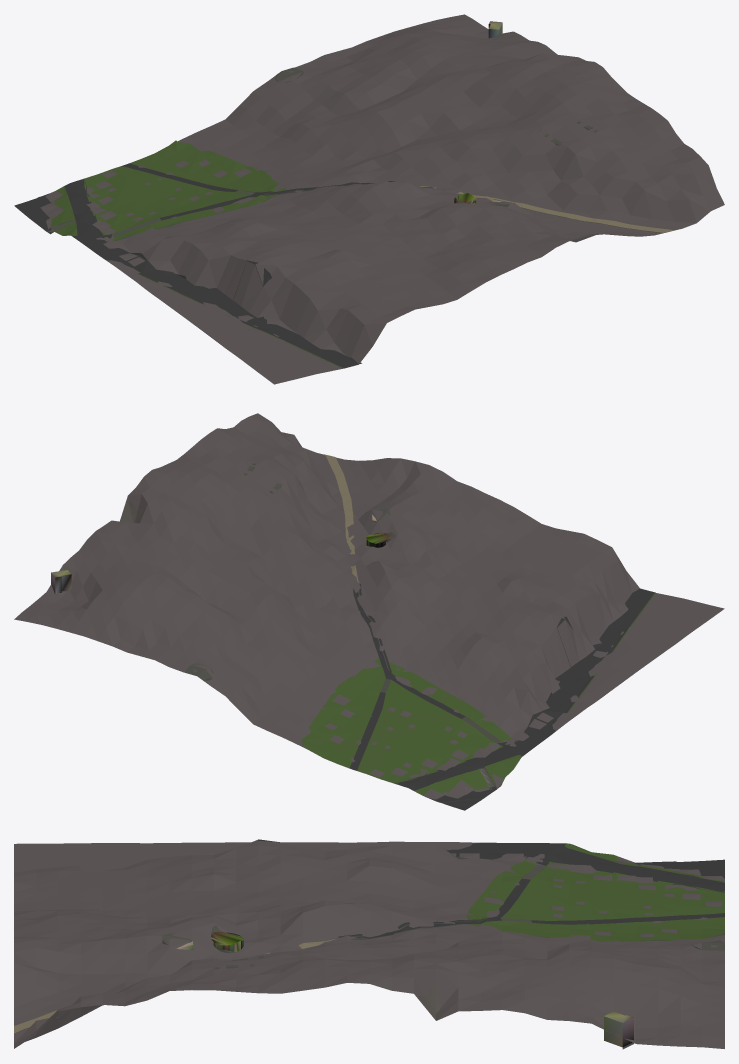
3 views of the same model, one above another, from view 1: azimuth 30°, elevation 25°; view 2: azimuth 150°, elevation 25°; view 3: azimuth 270°, elevation 25° (orthographic). The views are drawn at different scales.
Visible parts, largest first — view 1: c_m07_m16; view 2: c_m07_m16; view 3: c_m07_m16, append:c_m07_m16.
Boxes of the visible parts, box(x1,y1,x2,y2) form: c_m07_m16: box(14, 14, 724, 384); c_m07_m16: box(14, 413, 724, 810); c_m07_m16: box(14, 839, 724, 1049); append:c_m07_m16: box(418, 981, 440, 1020).
Size of the model in its own units: 128 by 35.87 by 128.
